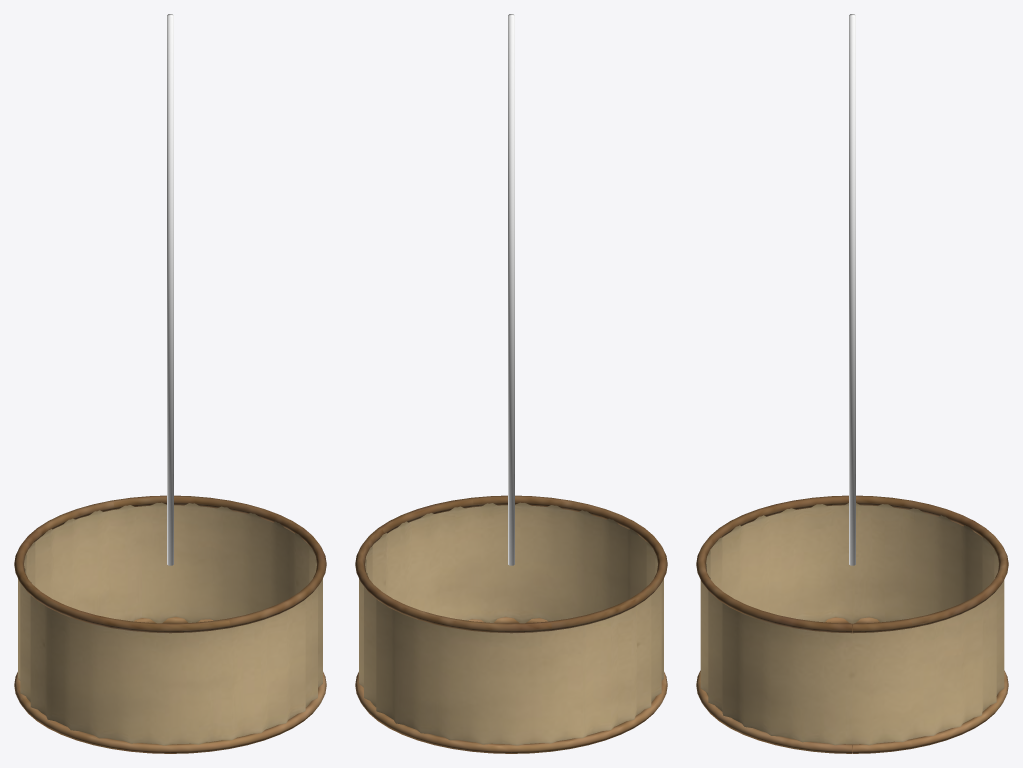
The model's file is pendant_drum.glb.
The picture shows the model from 3 angles, left to right: view 1: azimuth 30°, elevation 25°; view 2: azimuth 150°, elevation 25°; view 3: azimuth 270°, elevation 25°; orthographic projection.
Parts seen in each view (by area): view 1: prop_pendant_drum_paper, prop_pendant_drum_wood, pendant_drum_thread_dark.001; view 2: prop_pendant_drum_paper, prop_pendant_drum_wood, pendant_drum_thread_dark.001; view 3: prop_pendant_drum_paper, prop_pendant_drum_wood, pendant_drum_thread_dark.001.
Part boxes in pixels (bbox=[...]): prop_pendant_drum_paper: bbox=[18, 502, 322, 745]; prop_pendant_drum_wood: bbox=[14, 495, 326, 753]; pendant_drum_thread_dark.001: bbox=[167, 14, 173, 565]; prop_pendant_drum_paper: bbox=[359, 502, 663, 745]; prop_pendant_drum_wood: bbox=[355, 495, 667, 753]; pendant_drum_thread_dark.001: bbox=[508, 14, 514, 565]; prop_pendant_drum_paper: bbox=[700, 503, 1004, 745]; prop_pendant_drum_wood: bbox=[696, 495, 1008, 753]; pendant_drum_thread_dark.001: bbox=[849, 14, 855, 565].
Bounding box in the file's own units: 1.03 × 2.45 × 1.03.
Materials: 4 (3 with a texture image).
